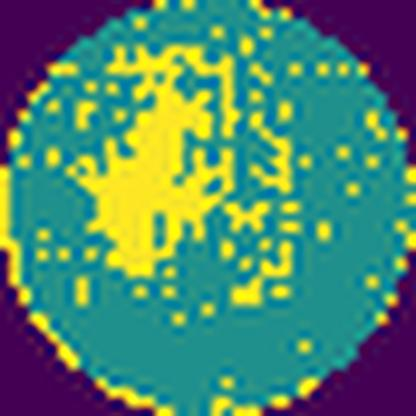Loc: (64, 42, 236, 282)
